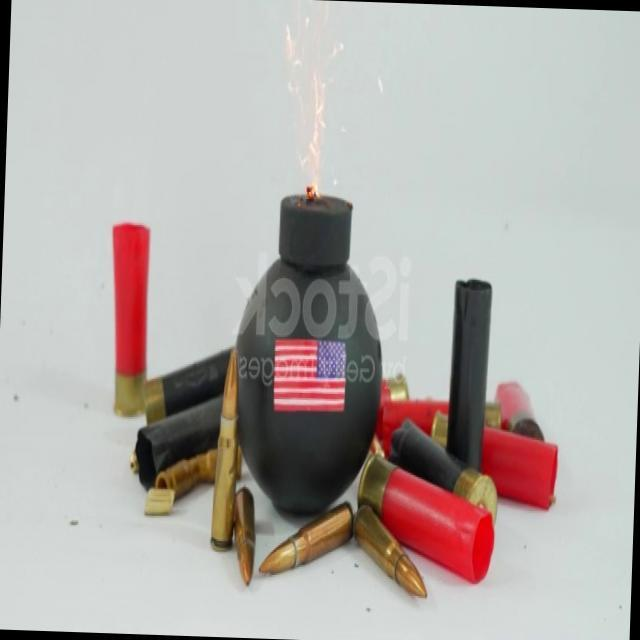grenade: (226, 185, 390, 532)
